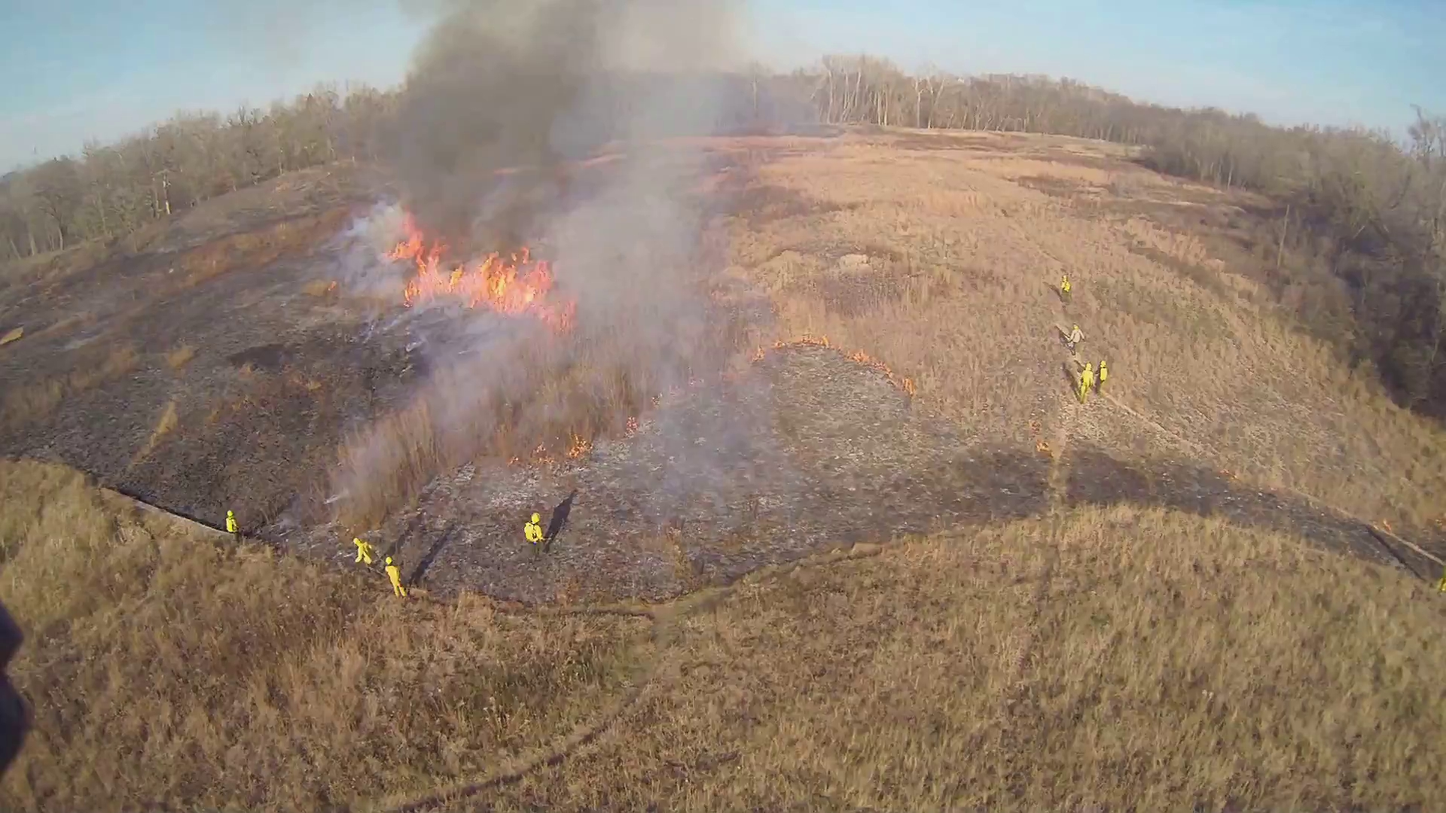forest_fire: (383, 214, 575, 331), (844, 351, 914, 394), (771, 336, 839, 350)
